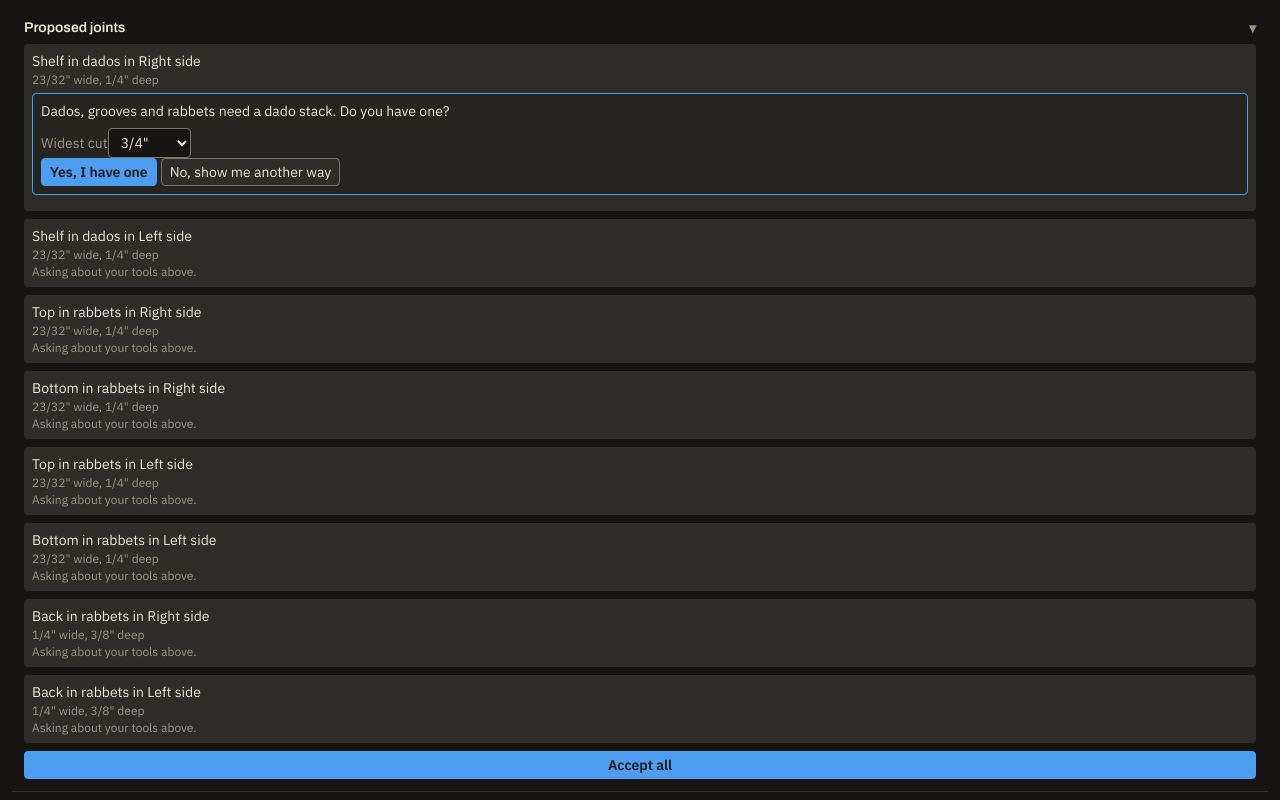
Test: the Joinery step › with a shop never told about its tools › says the dado stack cuts them once the woodworker has a 3/4" one
The width and height of the screenshot is (1280, 800).
Step 1. Click the button "Yes, I have one" → (99, 172), box [41,158,157,186]
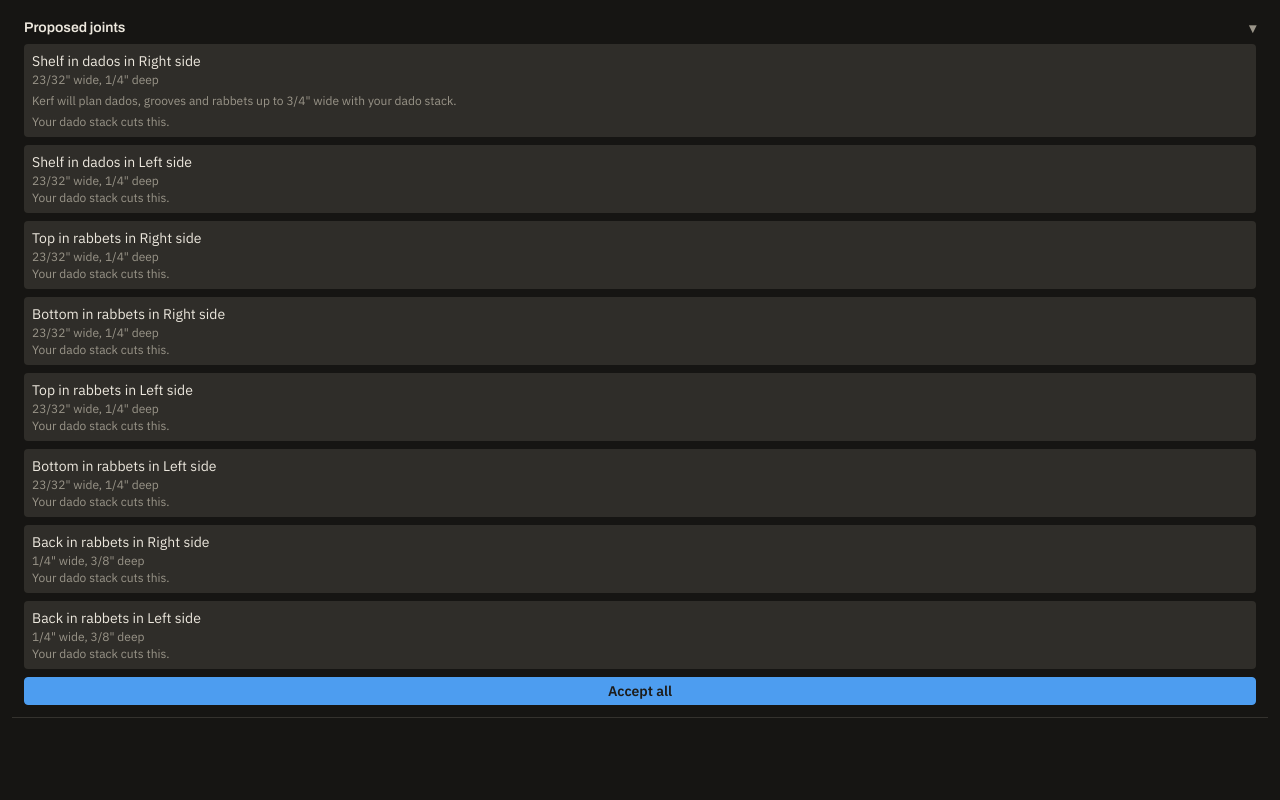
Expected: the text "Dados, grooves and rabbets need a dado stack. Do you have one?" is gone
Expected: the text "Asking about your tools above." is gone
